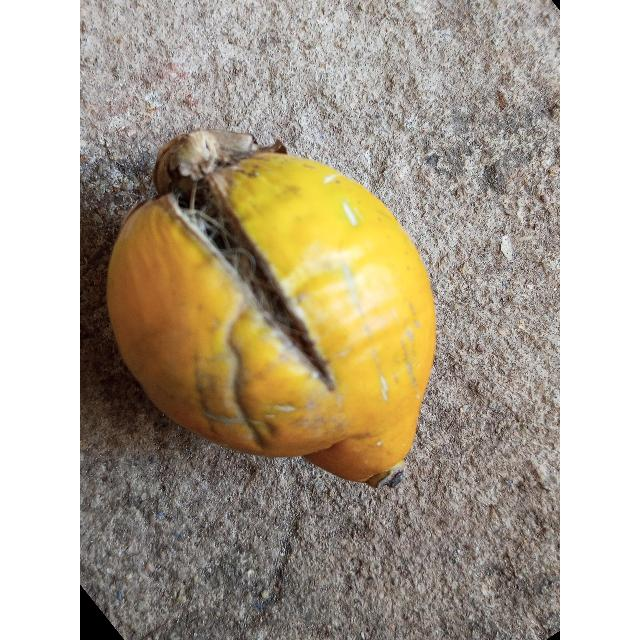damaged: (107, 131, 435, 488)
